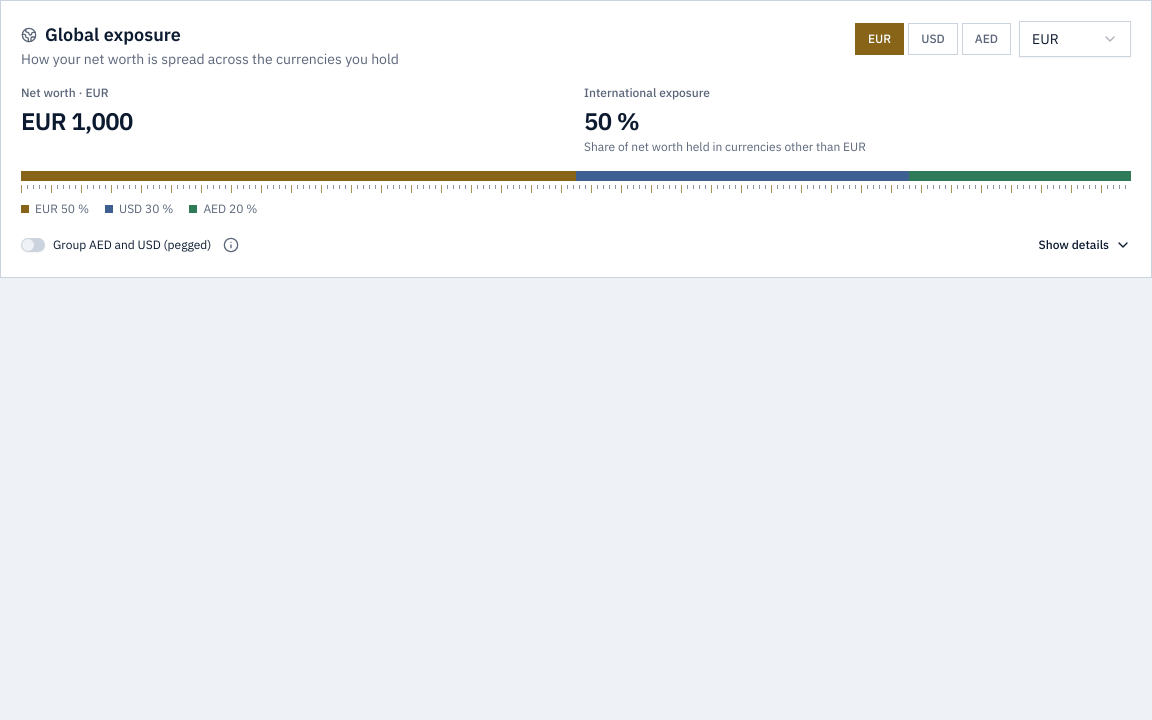
Test case: target mix and drift › saves targets typed in the editor to localStorage, shows the drift, and clears them
The image size is (1152, 720).
Click the button "Show details".
click(1085, 245)  # box [1038,237,1131,253]
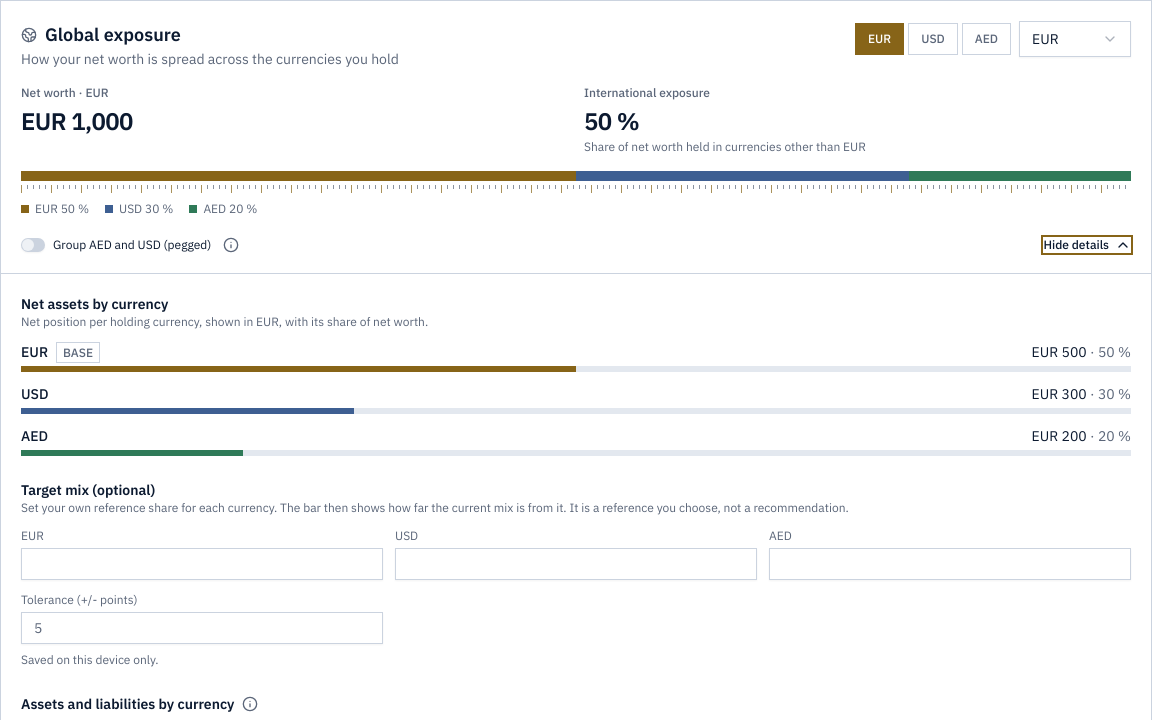
Type "35" into the number field named "Target share for EUR (%)".
click(202, 564); type("35")  # box [21,548,383,580]
(page scrolled)
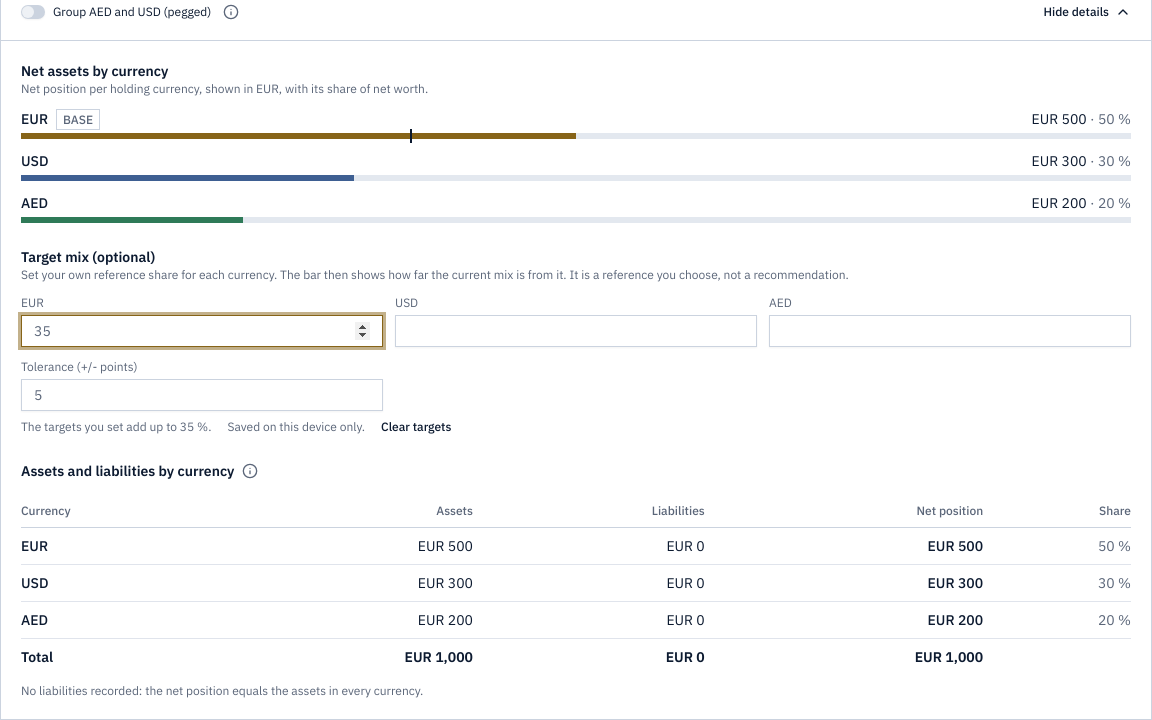
Expected: the text with test id "fx-target-total" shows "35 %", [21,419,212,434]
Click the button "Clear targets".
click(416, 427)  # box [381,419,451,435]
(page scrolled)
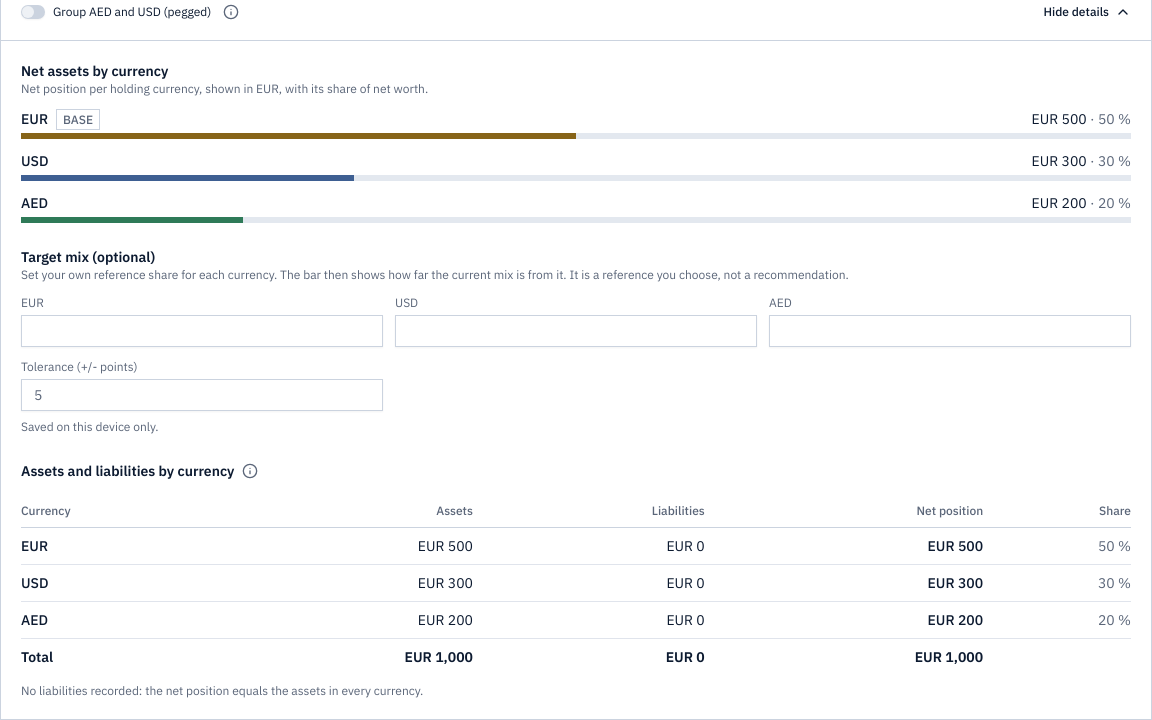
Expected: the number field named "Target share for EUR (%)" is empty, [21,315,383,347]
